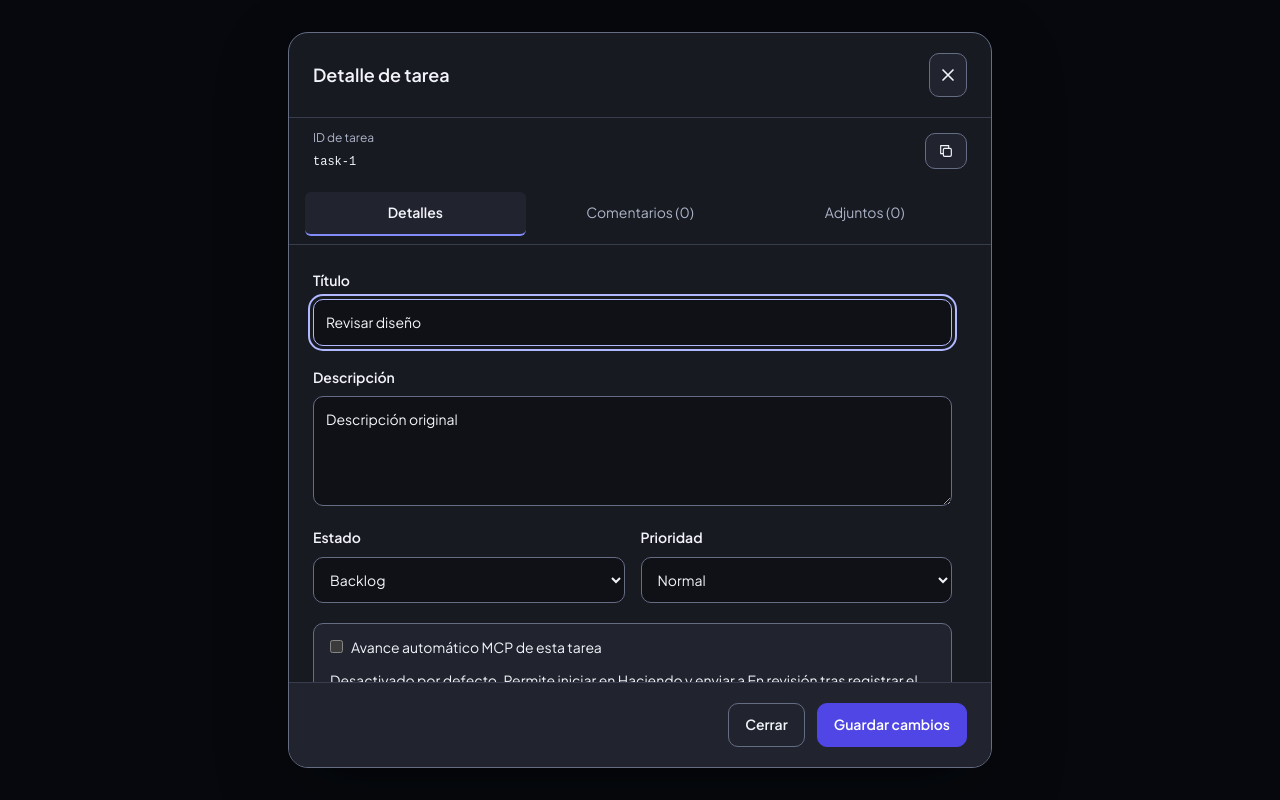
Test: Detalle de tarea › conserva el formulario abierto y el borrador si falla el guardado
The image size is (1280, 800).
Replace the text in the field labelled "Título" with "Borrador nuevo". click: (632, 322)
box: [313,299,952,346]
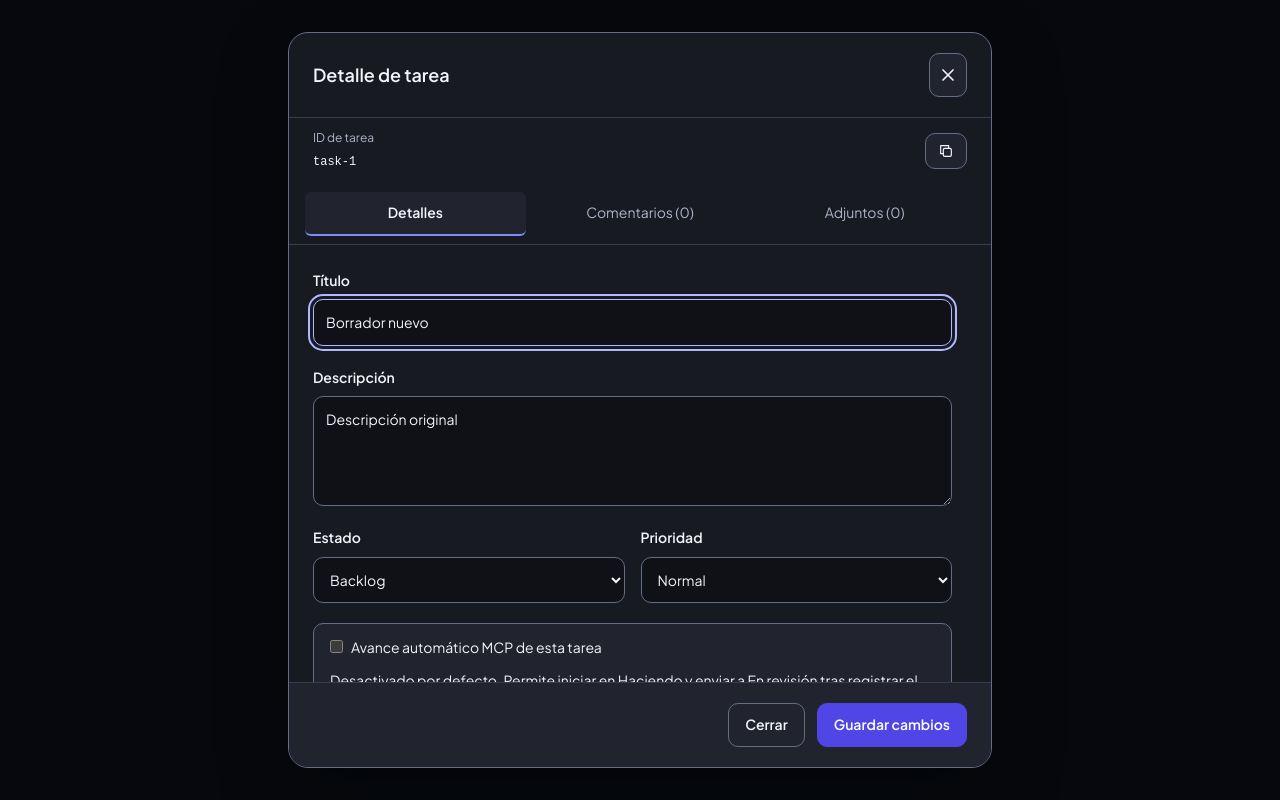
Click the button "Guardar cambios". click: (892, 725)
box: [817,703,967,747]
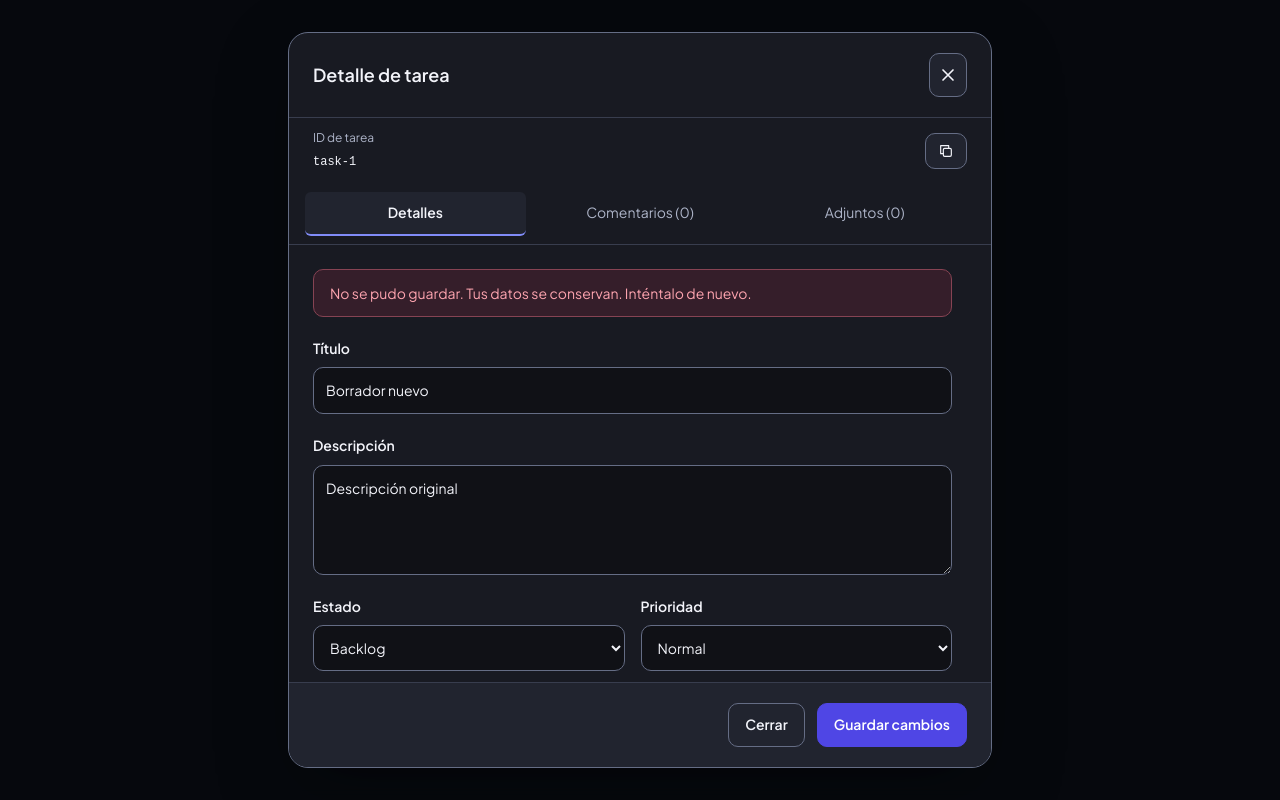
Result: the message shows "No se pudo guardar" at [330,284,751,302]
